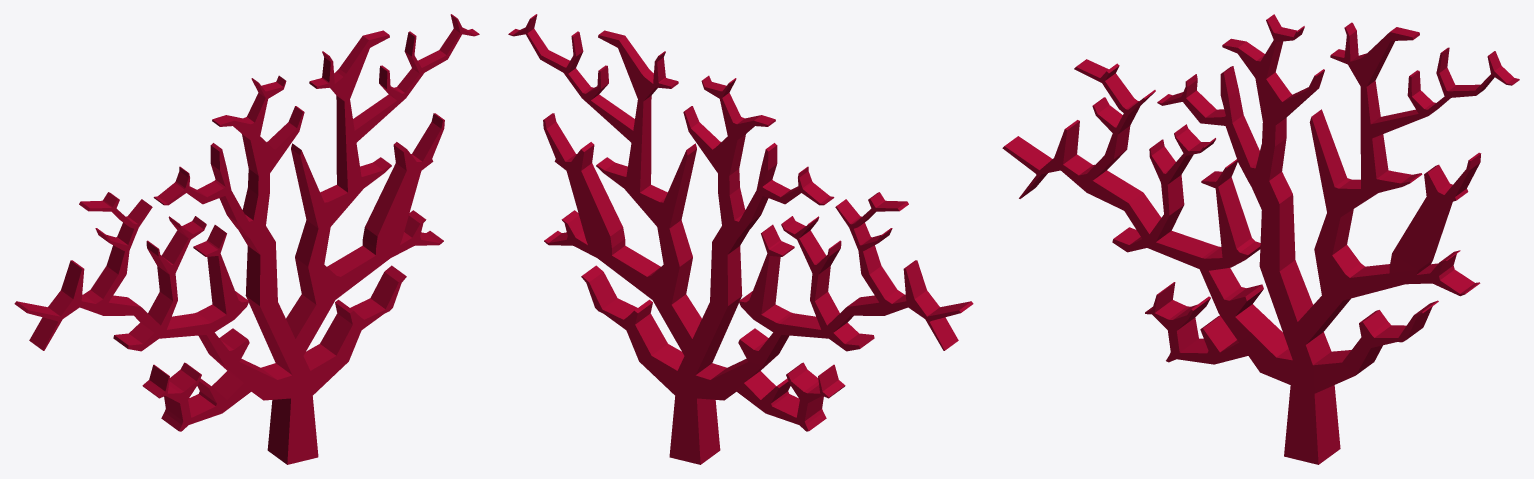
The model's file is Coral.fbx.
3 renders of one model, left to right at view 1: azimuth 30°, elevation 25°; view 2: azimuth 150°, elevation 25°; view 3: azimuth 330°, elevation 25°, orthographic. The views are drawn at different scales.
Parts seen in each view (by area): view 1: pasted__pasted__pCube2; view 2: pasted__pasted__pCube2; view 3: pasted__pasted__pCube2.
Boxes of the visible parts, x1,y1,x2,y2 form: pasted__pasted__pCube2: (14, 14, 479, 464); pasted__pasted__pCube2: (508, 14, 973, 464); pasted__pasted__pCube2: (1002, 14, 1519, 464).
Bounding box in the file's own units: 8.03 × 6.71 × 0.6024.
